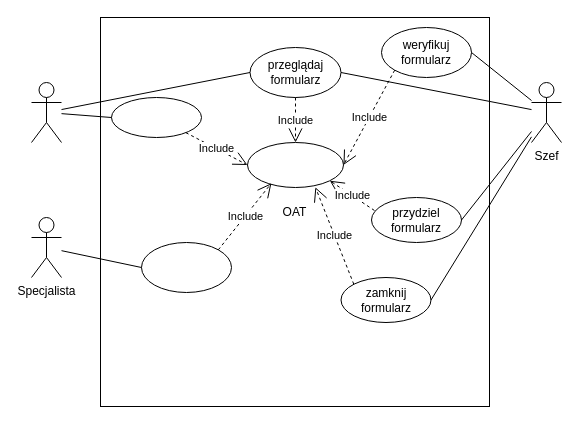
The diagram is 579 pixels wide and 424 high, and some of its shapes have lost their labels. Each missing label, with the centre of its shape:
Pracownik: (46,112)
weryfikuj tożsamość: (295,165)
wypełnij formularz: (156,117)
zrealizuj formularz: (186,267)
